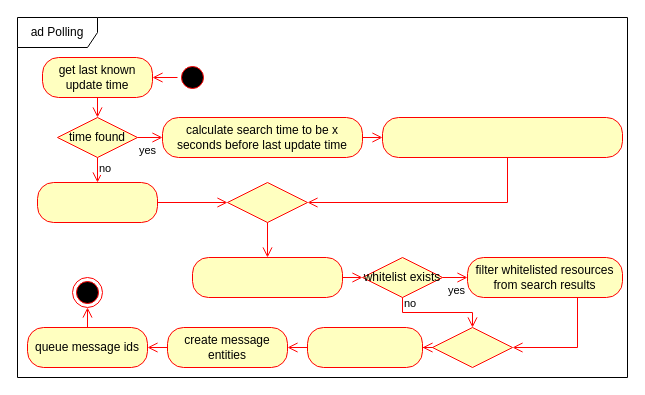
This 645x395 diagram has some shape labels left out. Each missing label, with the box of its shape:
generate whitelist of already polled resources, x seconds before search time: (382, 116, 622, 158)
search patients updated since search time: (192, 256, 342, 298)
Set search time to application start time: (36, 182, 158, 222)
sort search results by update time: (306, 326, 422, 368)
